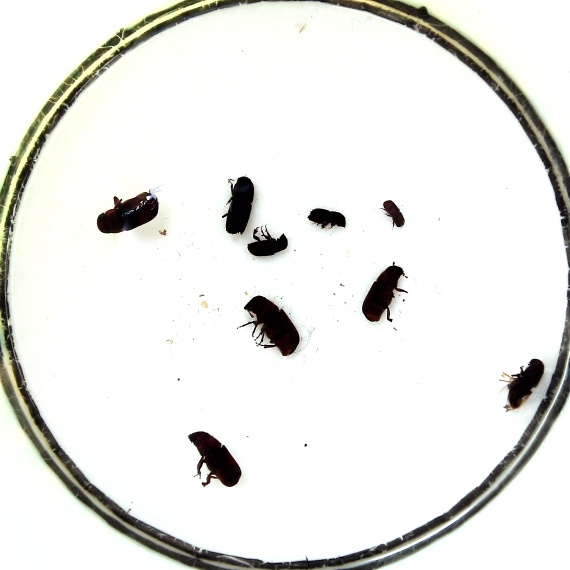acuminatus: (382, 199, 406, 229)
armandi: (248, 225, 288, 257)
boerner: (225, 175, 255, 234)
leconte: (245, 294, 300, 357), (186, 430, 241, 488), (361, 263, 406, 325), (95, 192, 159, 235), (501, 357, 545, 407)
linnaeus: (307, 207, 347, 230)
